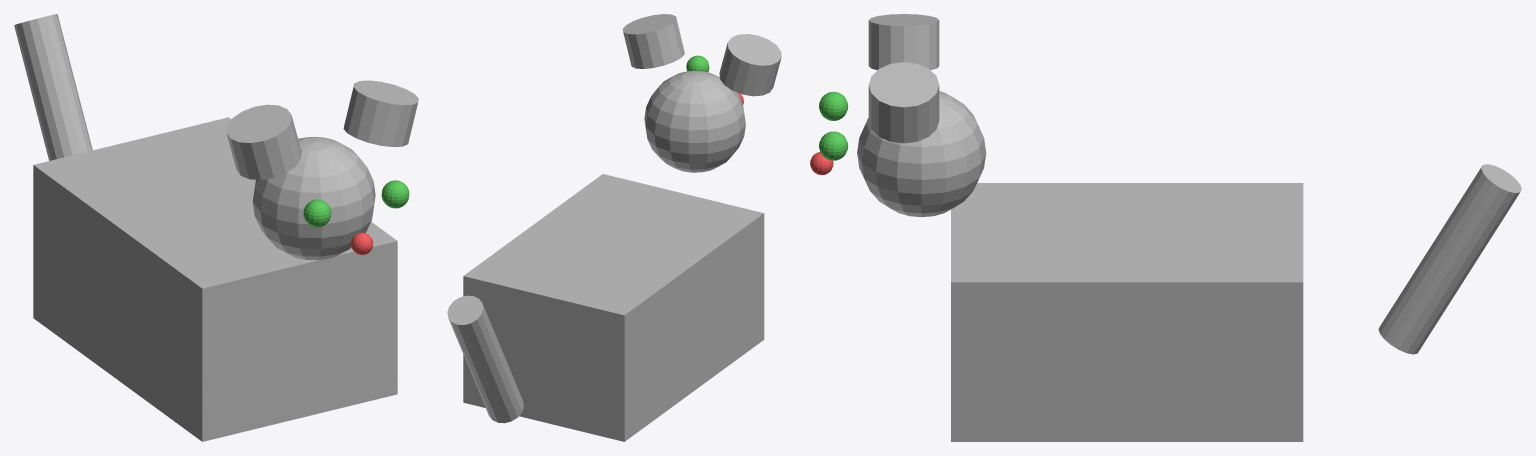
Rendered from tabby_cat.glb.
3 views of the same model, side by side, from view 1: azimuth 30°, elevation 25°; view 2: azimuth 150°, elevation 25°; view 3: azimuth 270°, elevation 25° (orthographic). The views are drawn at different scales.
Visible parts, largest first — view 1: body, head, tail, ear_left, ear_right, eye_left, eye_right, nose; view 2: body, head, tail, ear_left, ear_right; view 3: body, head, tail, ear_right, ear_left, eye_right, eye_left.
Boxes of the visible parts, box(x1,y1,x2,y2) form: body: box(33, 117, 397, 441); head: box(252, 137, 375, 260); tail: box(14, 14, 92, 160); ear_left: box(226, 104, 301, 179); ear_right: box(343, 80, 418, 146); eye_left: box(303, 199, 331, 227); eye_right: box(381, 180, 409, 208); nose: box(351, 232, 373, 254); body: box(463, 174, 764, 441); head: box(644, 70, 745, 172); tail: box(447, 295, 523, 423); ear_left: box(719, 34, 781, 96); ear_right: box(622, 14, 684, 68); body: box(951, 183, 1303, 441); head: box(857, 91, 986, 217); tail: box(1378, 164, 1521, 354); ear_right: box(868, 62, 939, 143); ear_left: box(868, 14, 939, 70); eye_right: box(819, 131, 848, 160); eye_left: box(819, 91, 848, 120).
Bounding box in the file's own units: 0.4 × 0.6542 × 1.21.
